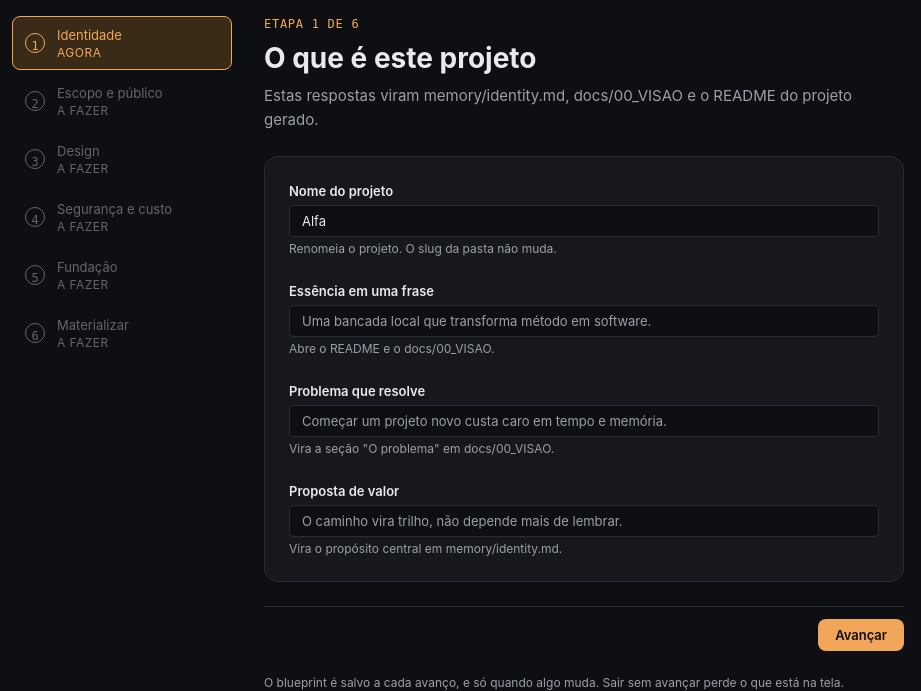
erro ao salvar › mostra alerta, mantém o digitado e tenta de novo
(page scrolled)
Type "uma bancada" into the field labelled "Essência em uma frase" at (584, 321), box [289,305,879,337]
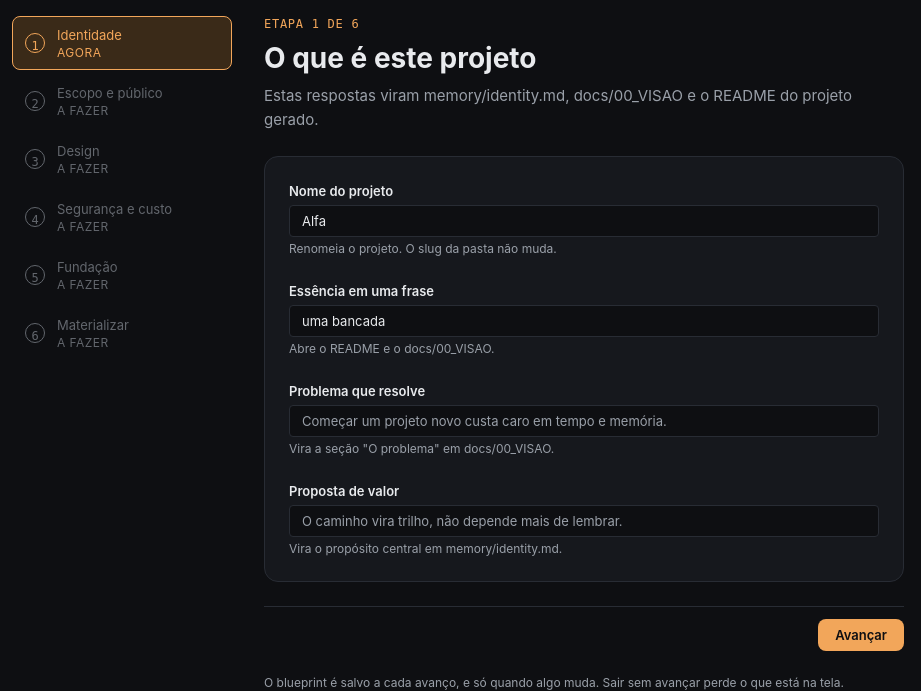
Click the button "Avançar" at (861, 635), box [818,619,904,651]
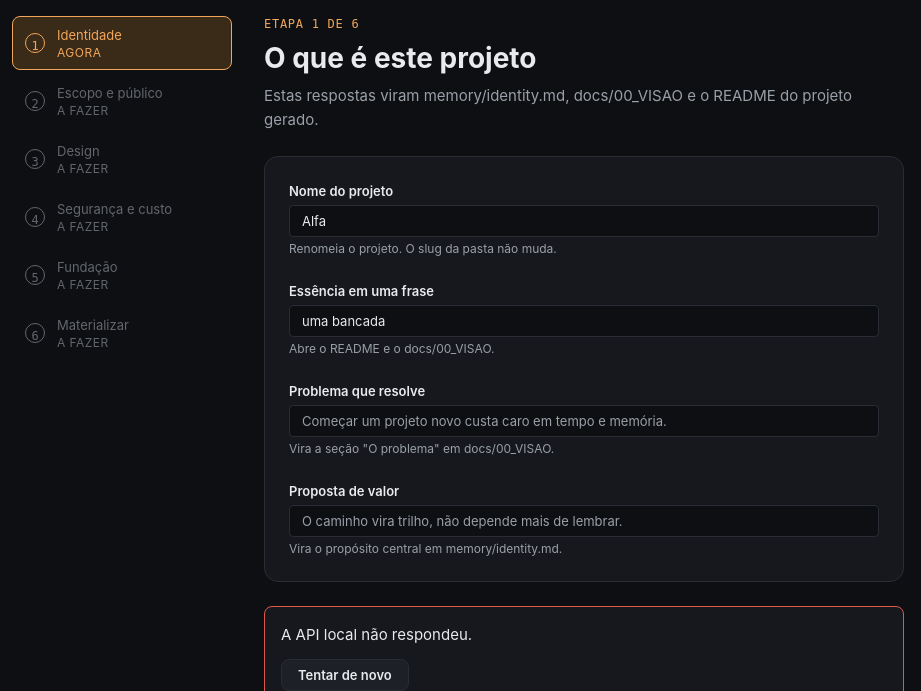
Result: the message shows "A API local não respondeu." at [281,625,472,644]
Click the button "Tentar de novo" at (345, 675), box [281,659,409,690]
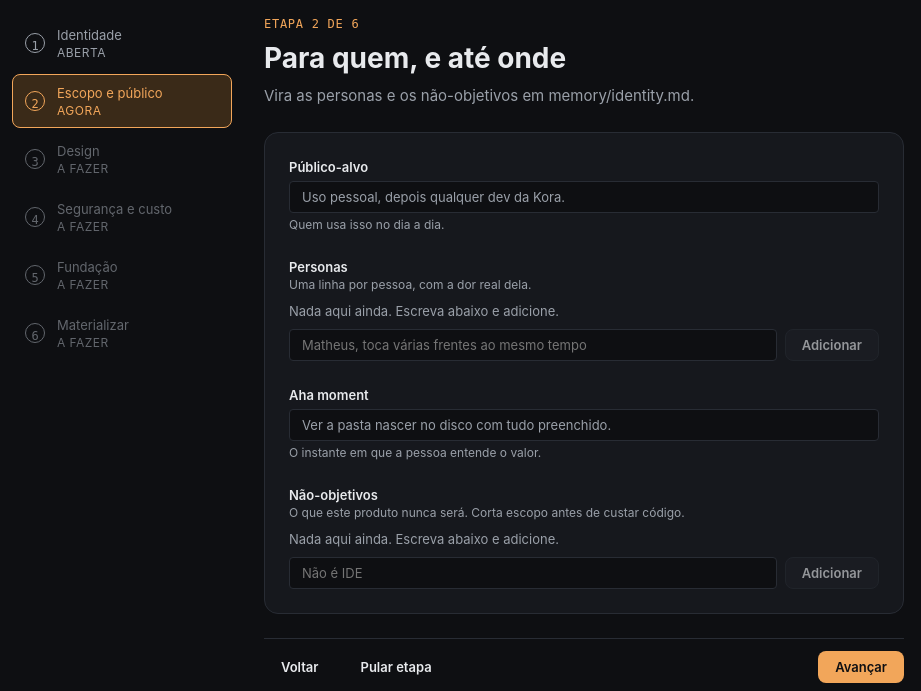
Result: the heading "Para quem, e até onde" is shown at [264,41,566,75]
